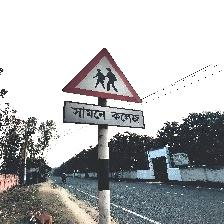College-in-front: (45, 27, 169, 132)
